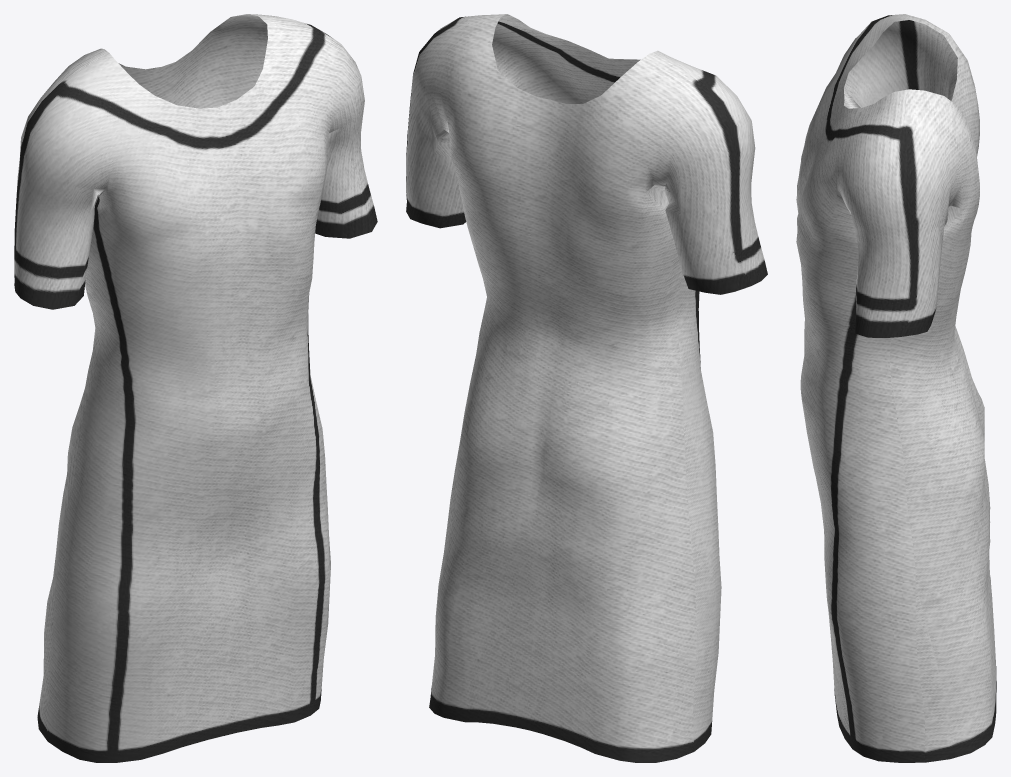
Rendered from top_tunic.gltf.
The picture shows the model from 3 angles, left to right: view 1: azimuth 30°, elevation 25°; view 2: azimuth 150°, elevation 25°; view 3: azimuth 270°, elevation 25°; orthographic projection. The views are drawn at different scales.
Parts seen in each view (by area): view 1: top_tunic; view 2: top_tunic; view 3: top_tunic.
Boxes of the visible parts, x1,y1,x2,y2 form: top_tunic: (14, 14, 377, 762); top_tunic: (406, 14, 767, 762); top_tunic: (796, 14, 996, 762).
Size of the model in its own units: 0.5239 by 0.9775 by 0.2726.
1 material, 1 textured.
